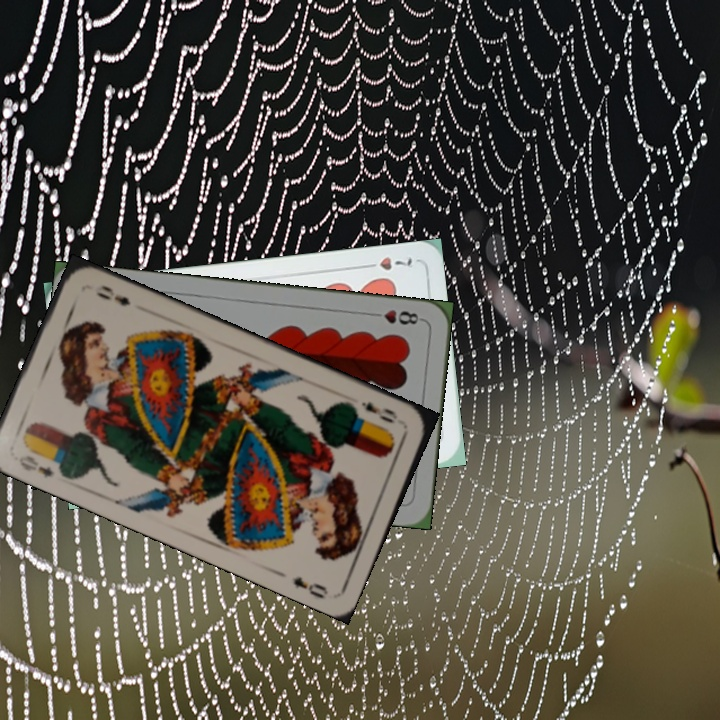EO: (357, 397, 401, 426), (15, 451, 56, 481)
H7: (358, 253, 415, 273)
H8: (366, 306, 425, 328)
